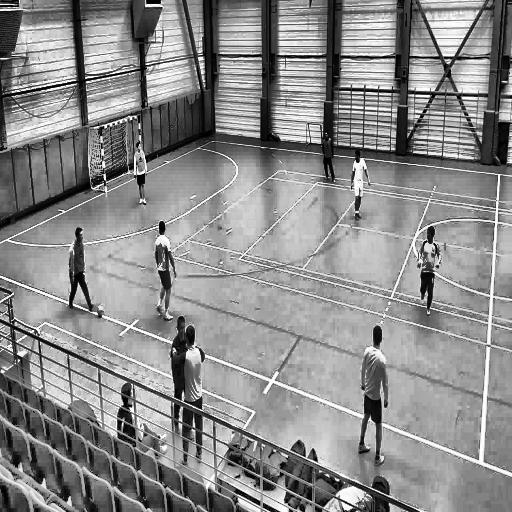ball: (96, 304, 106, 320)
player: (172, 326, 206, 466), (358, 324, 388, 469), (414, 223, 445, 320), (172, 314, 195, 442), (67, 224, 94, 317), (155, 216, 176, 324), (349, 149, 372, 224), (133, 142, 150, 212), (321, 126, 339, 186)
